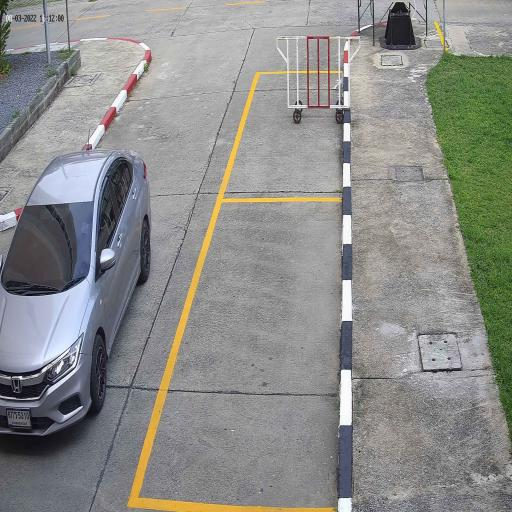car: (0, 150, 152, 438)
